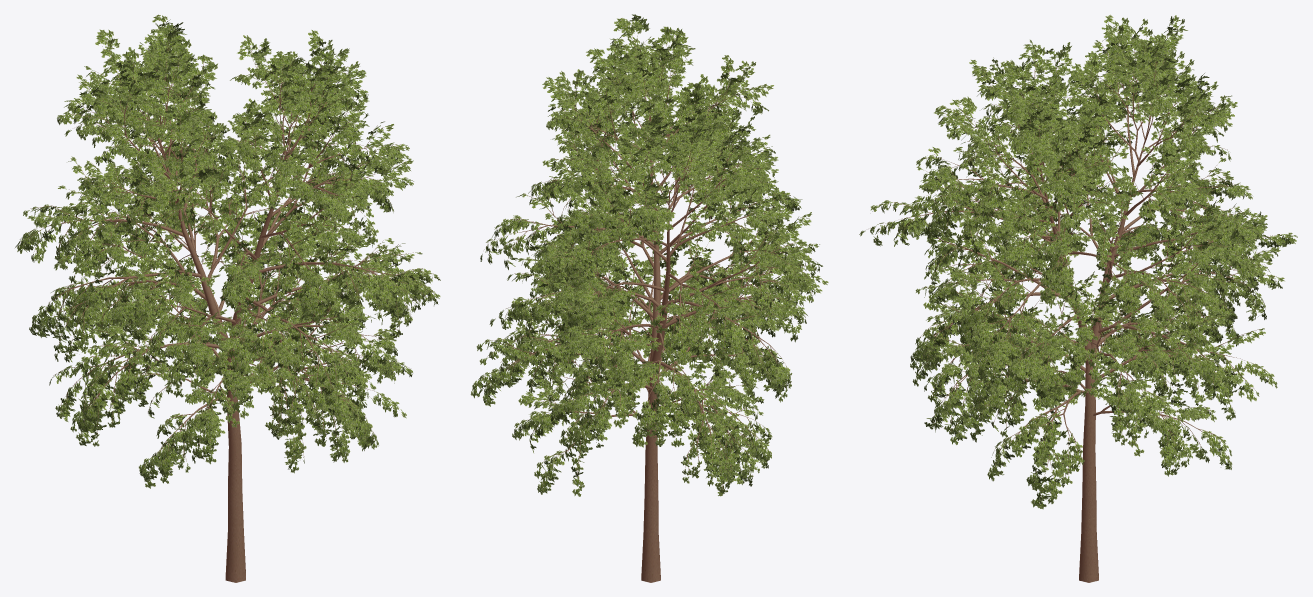
File: oak_tree.glb
3 views of the same model, side by side, from view 1: azimuth 30°, elevation 25°; view 2: azimuth 150°, elevation 25°; view 3: azimuth 270°, elevation 25° (orthographic). The views are drawn at different scales.
Parts seen in each view (by area): view 1: leaves, tree; view 2: leaves, tree; view 3: leaves, tree.
Part boxes in pixels (x1=…): leaves: x1=15, y1=14, x2=440, y2=488; tree: x1=21, y1=21, x2=434, y2=582; leaves: x1=470, y1=14, x2=828, y2=496; tree: x1=476, y1=24, x2=816, y2=582; leaves: x1=859, y1=14, x2=1297, y2=509; tree: x1=875, y1=27, x2=1291, y2=582.
Size of the model in its own units: 10.72 by 16.9 by 12.43.
Materials: 2 (2 with a texture image).
